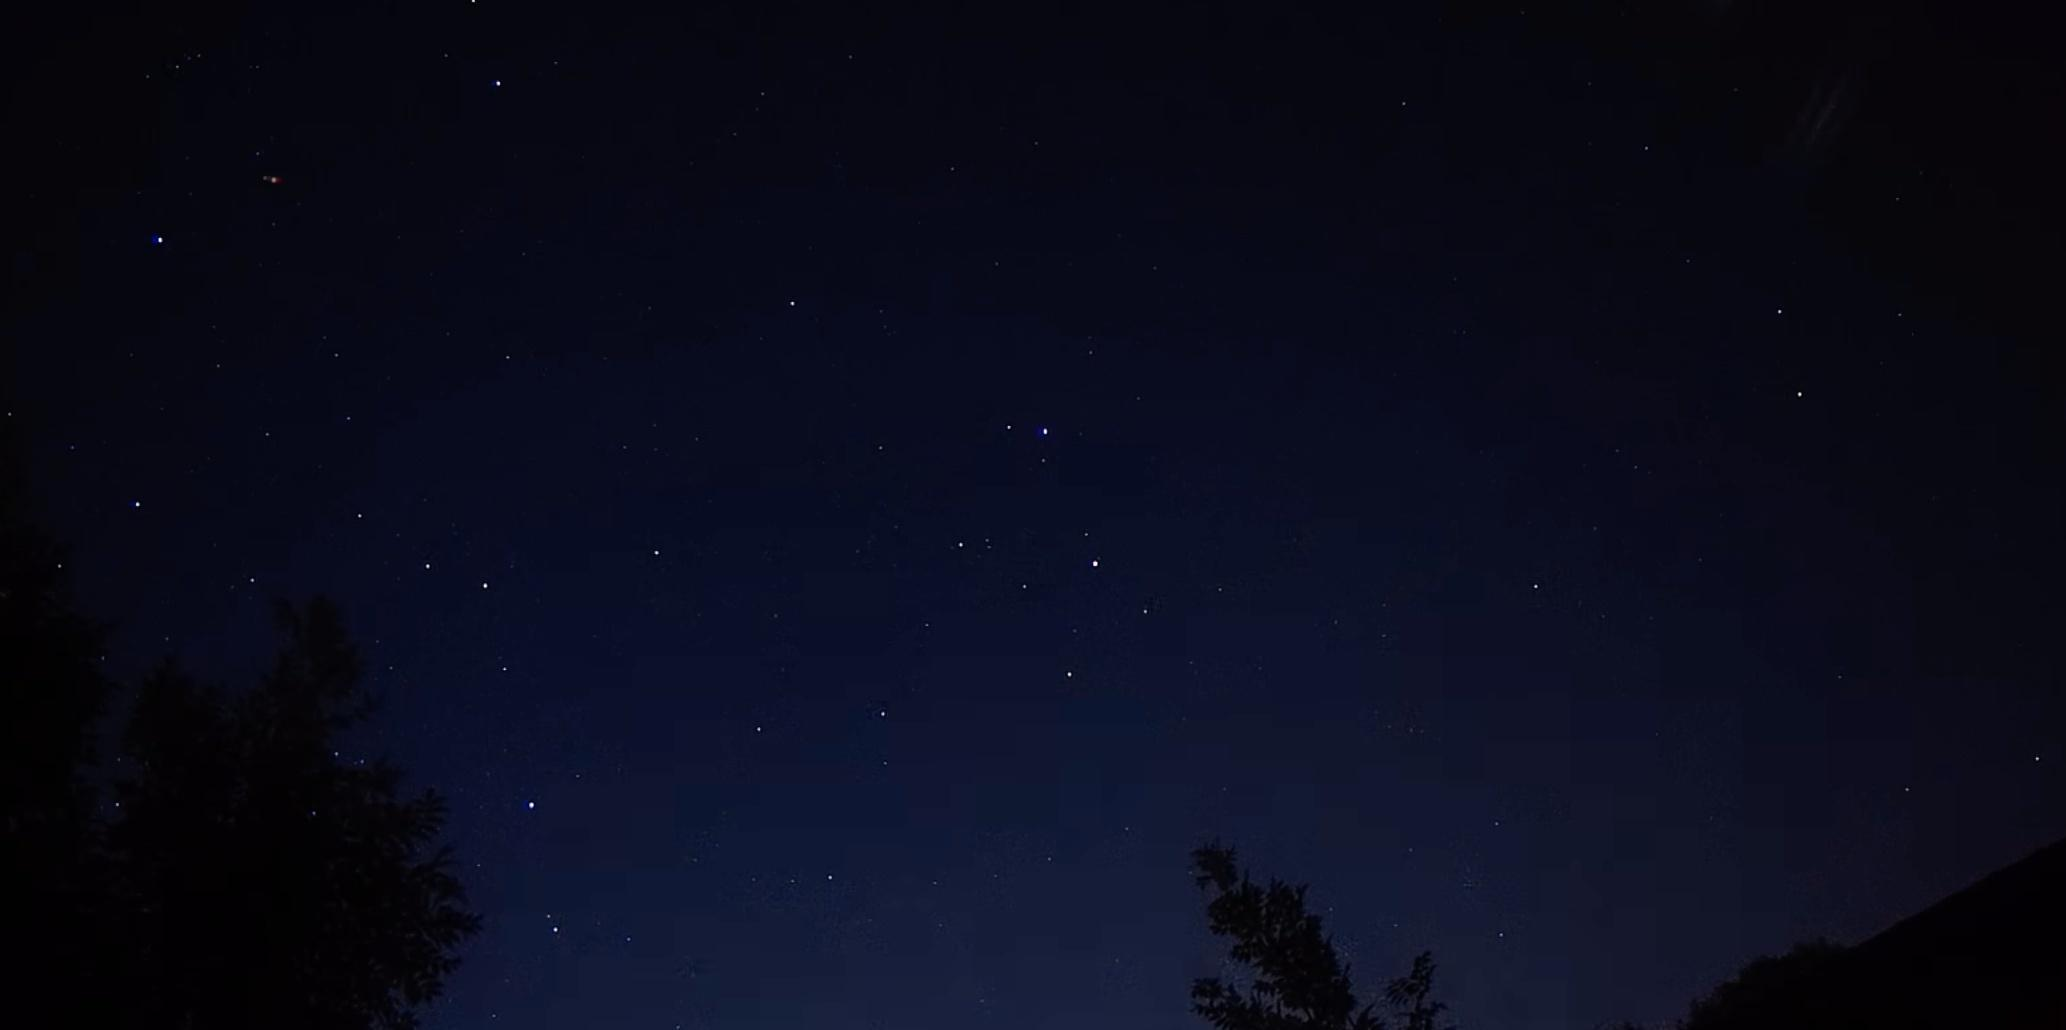Plane: (238, 165, 303, 198)
